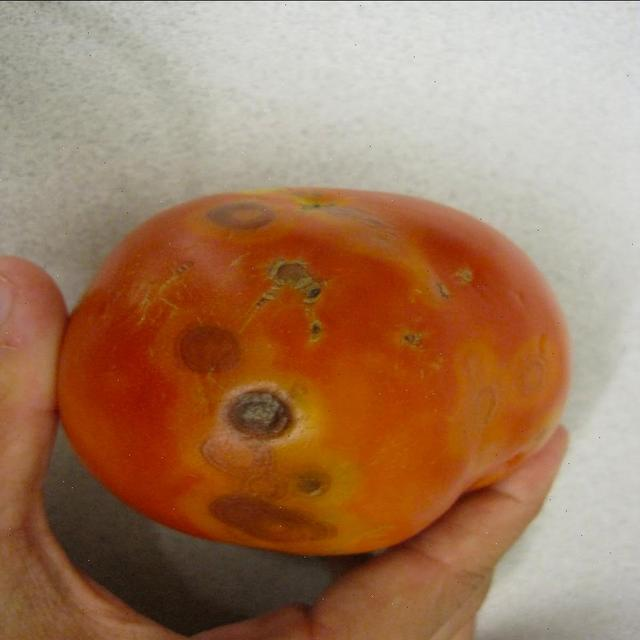Spotted wilt Virus Fruit: (190, 110, 558, 304)
